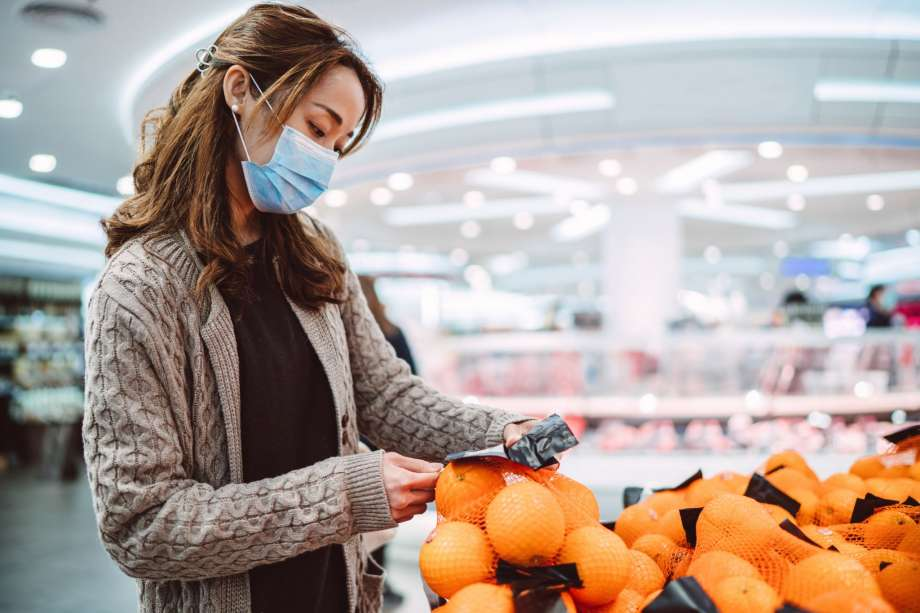with_mask: (211, 27, 392, 234)
